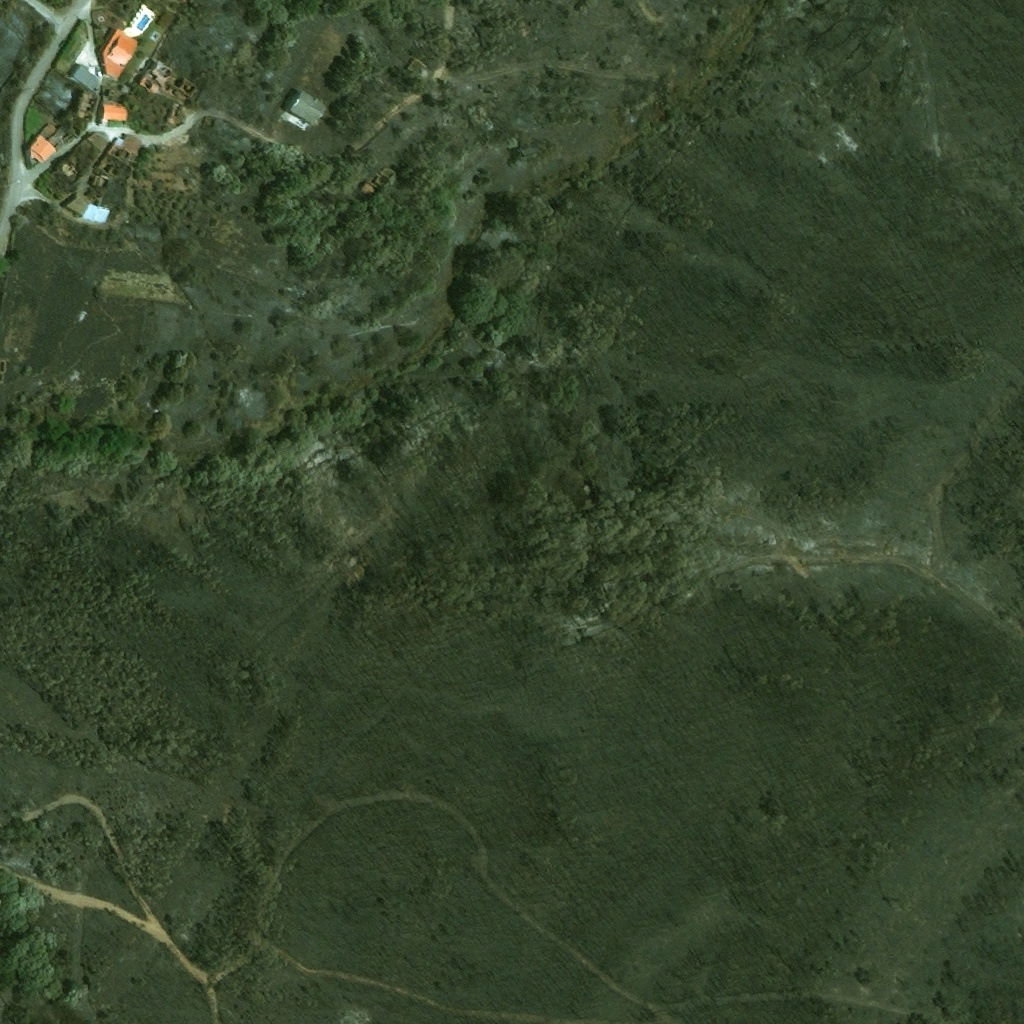0 no-damage: (102, 28, 141, 81), (289, 89, 326, 124), (29, 133, 56, 164), (71, 64, 98, 94), (69, 192, 93, 215), (103, 105, 129, 120)
2 major-damage: (410, 60, 428, 75)
3 destroyed: (138, 59, 201, 104), (108, 133, 143, 162), (77, 90, 102, 120), (98, 155, 122, 178), (92, 170, 114, 191), (167, 106, 185, 127)
